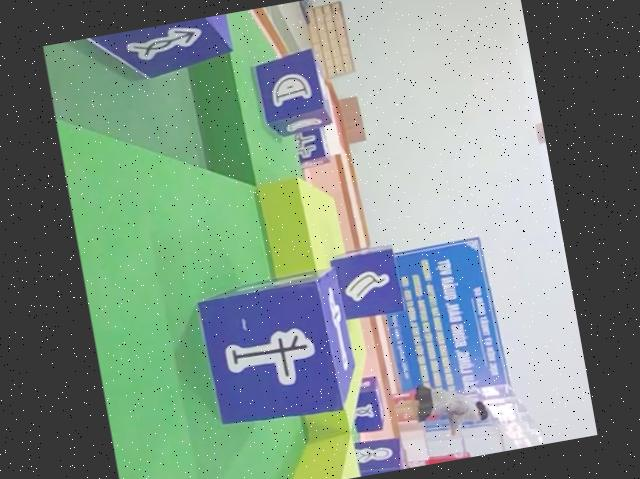R2 Real Blue: (194, 264, 361, 431), (80, 13, 235, 88), (249, 46, 334, 139), (325, 244, 405, 323), (345, 373, 386, 434), (353, 433, 406, 476), (294, 124, 332, 169)
